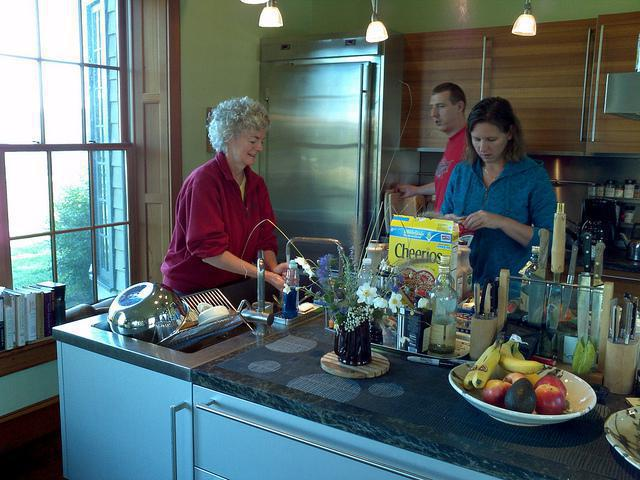Lavaplatos: (50, 234, 349, 358)
